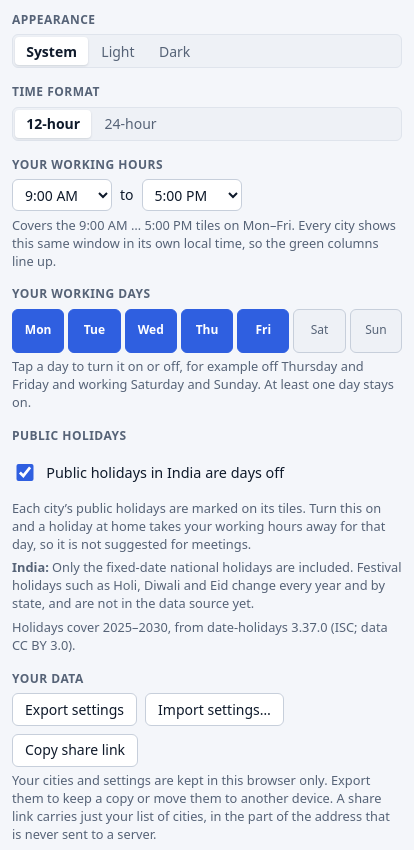
it: Your data in Settings › says so when the file could not be saved
The image size is (414, 850).
Click the button "Export settings" at (74, 709), box top-left (12, 693), bottom-right (137, 726)
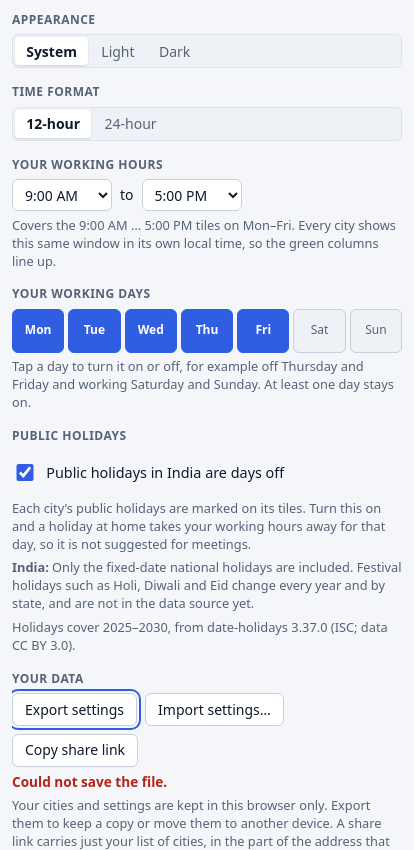
Result: the message reads "Could not save the file." at top-left (12, 772), bottom-right (167, 791)
